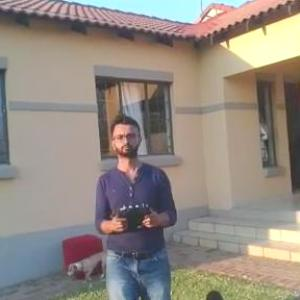follow: (92, 108, 183, 299)
null: (66, 246, 106, 284)
